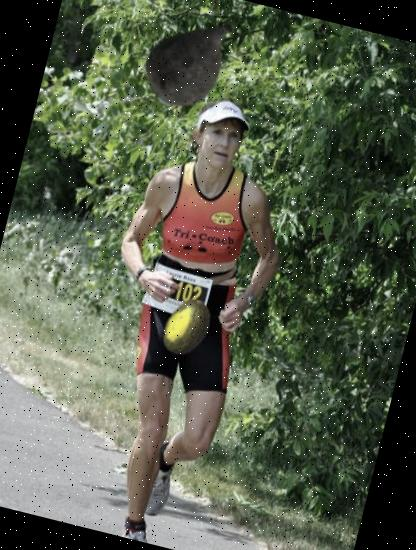Beetroot: (126, 0, 265, 128)
Melon: (151, 291, 224, 364)
